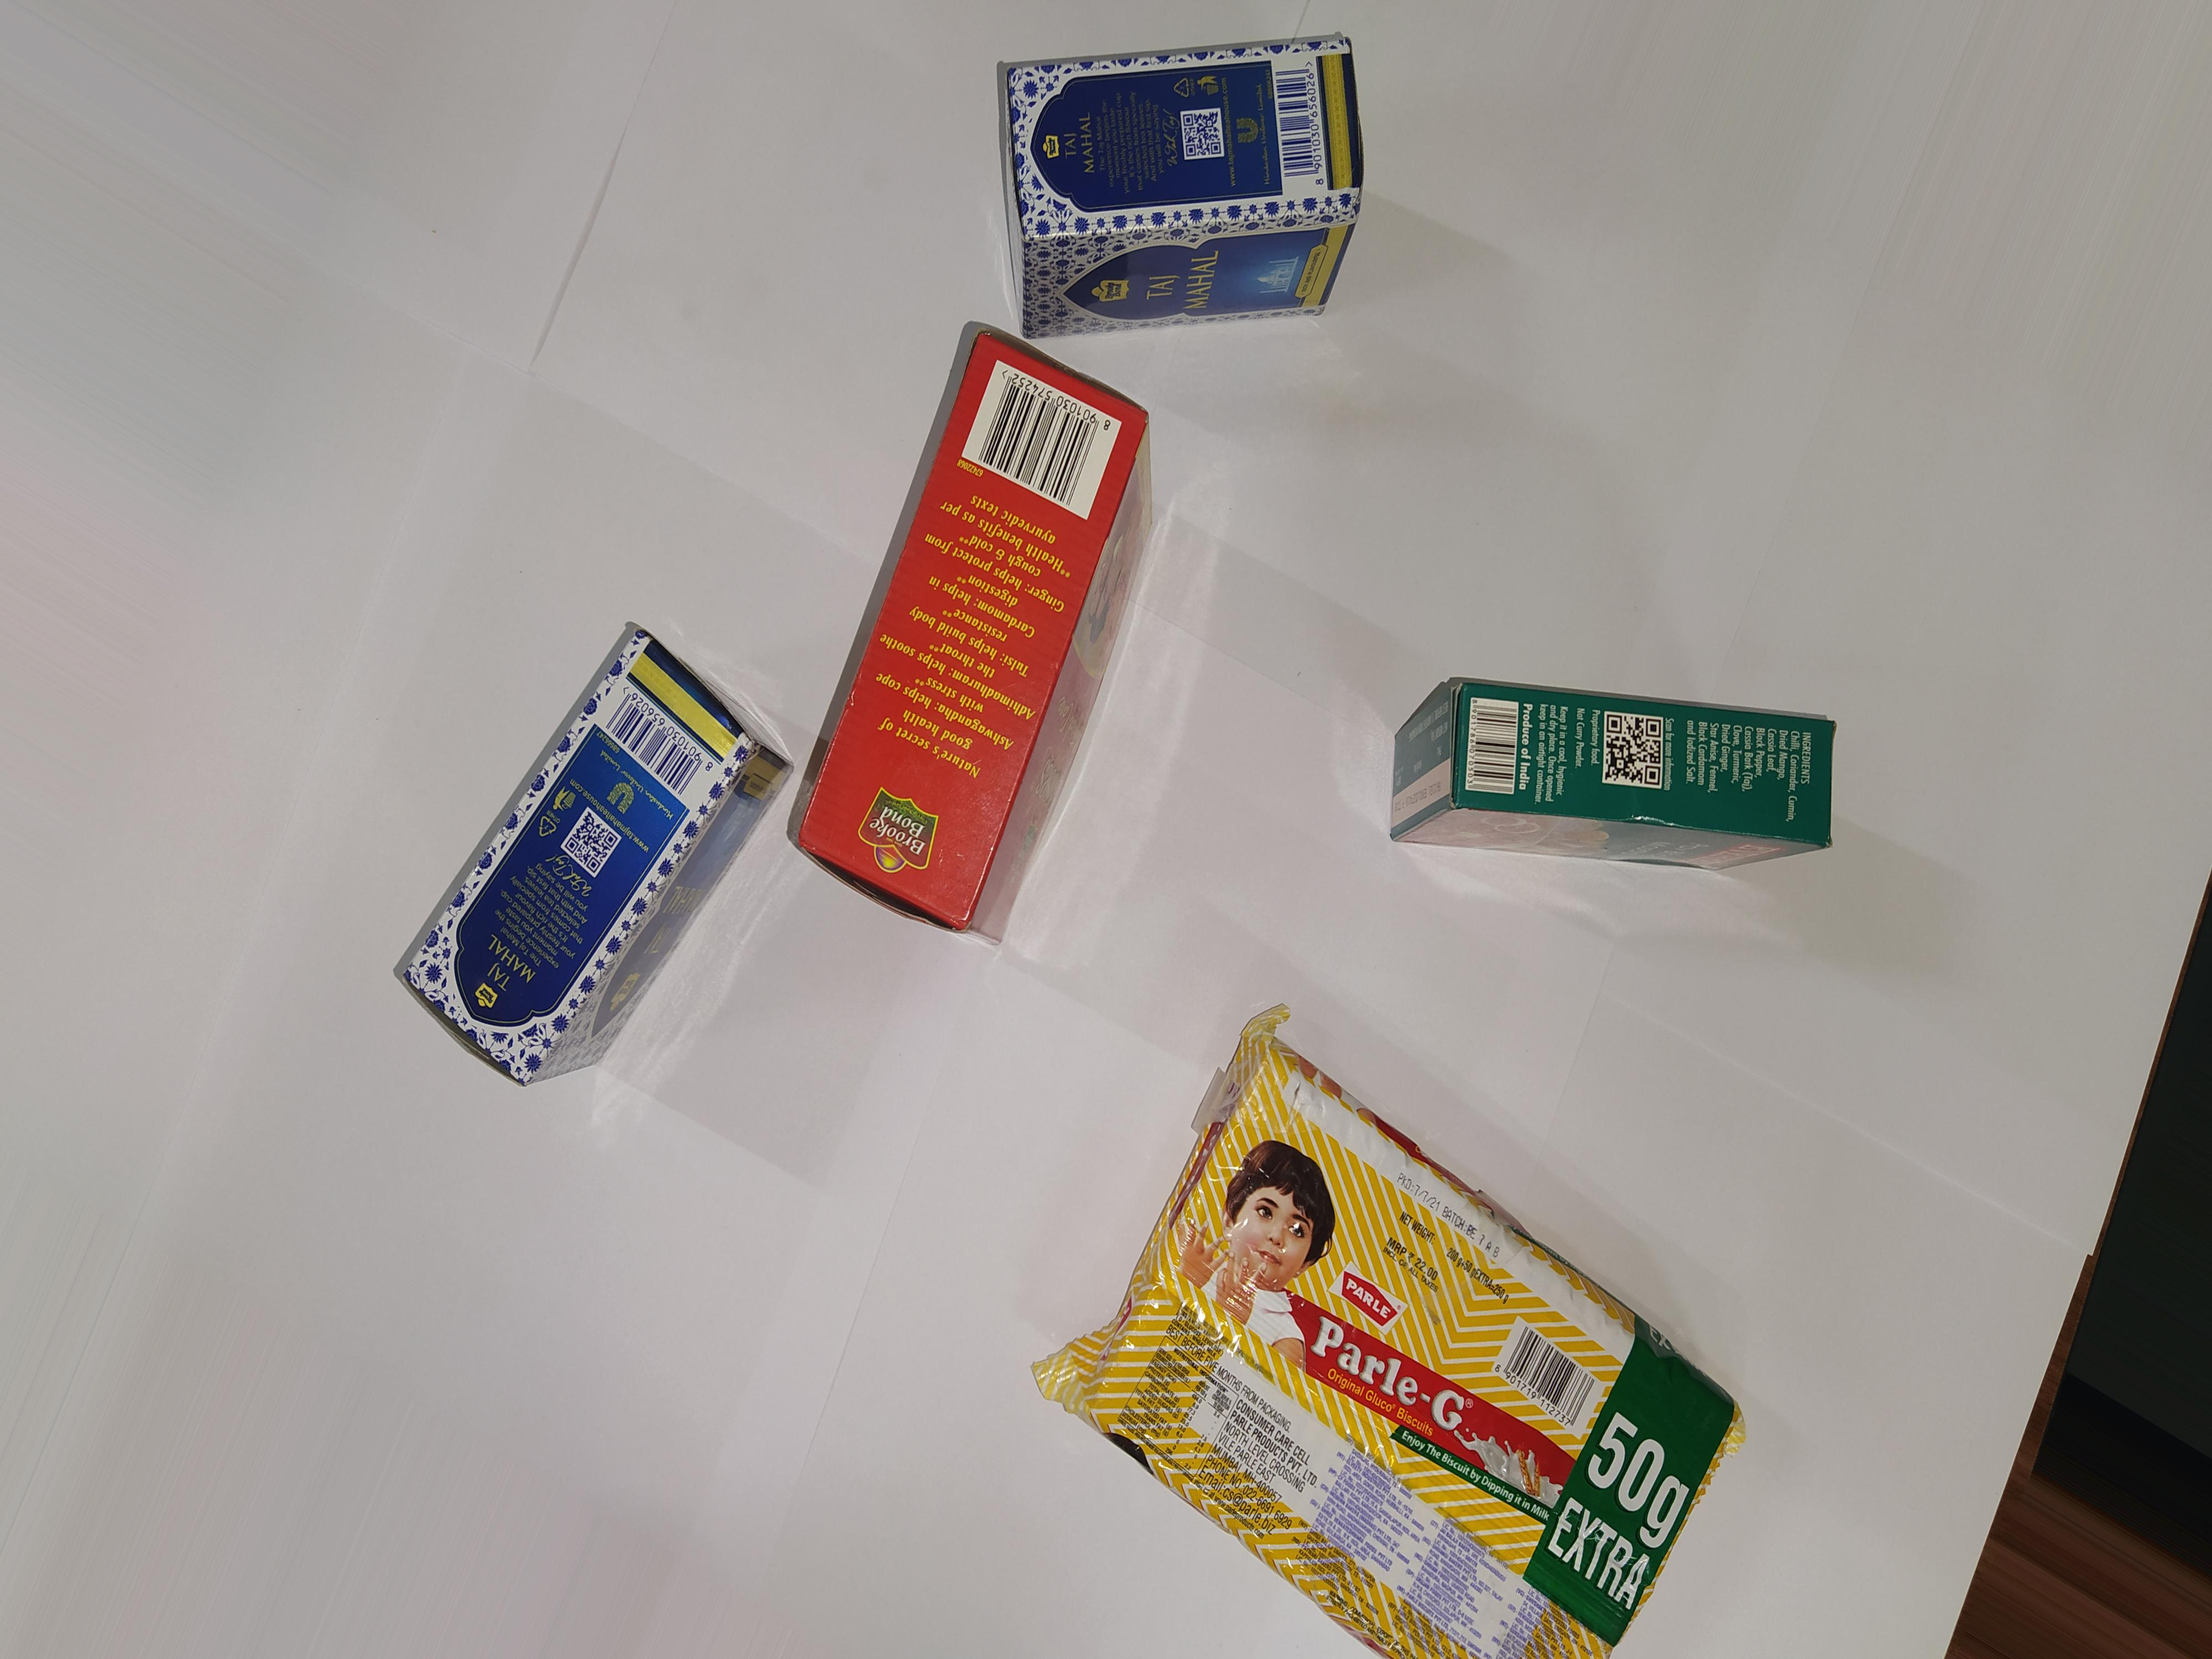Bar_code: (960, 349, 1130, 518), (1491, 1312, 1613, 1431), (599, 685, 712, 800), (1266, 51, 1346, 192), (1454, 692, 1538, 809)
Item: (1029, 997, 1806, 1659), (343, 603, 794, 1157), (829, 298, 1162, 931), (967, 26, 1428, 338), (1371, 667, 1858, 908)
QR_code: (1599, 701, 1676, 796), (557, 800, 634, 884), (1172, 105, 1233, 166)
